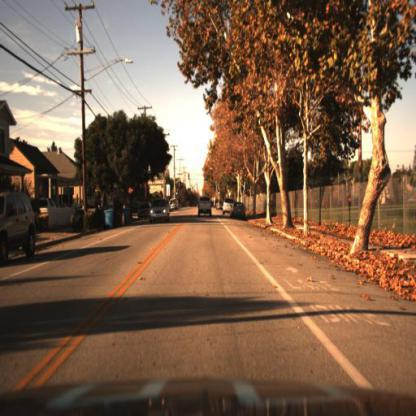car: (0, 191, 37, 266), (29, 191, 58, 226), (144, 196, 172, 226), (148, 198, 171, 227), (196, 190, 215, 218), (229, 199, 247, 218), (230, 200, 248, 219), (219, 196, 234, 213)
